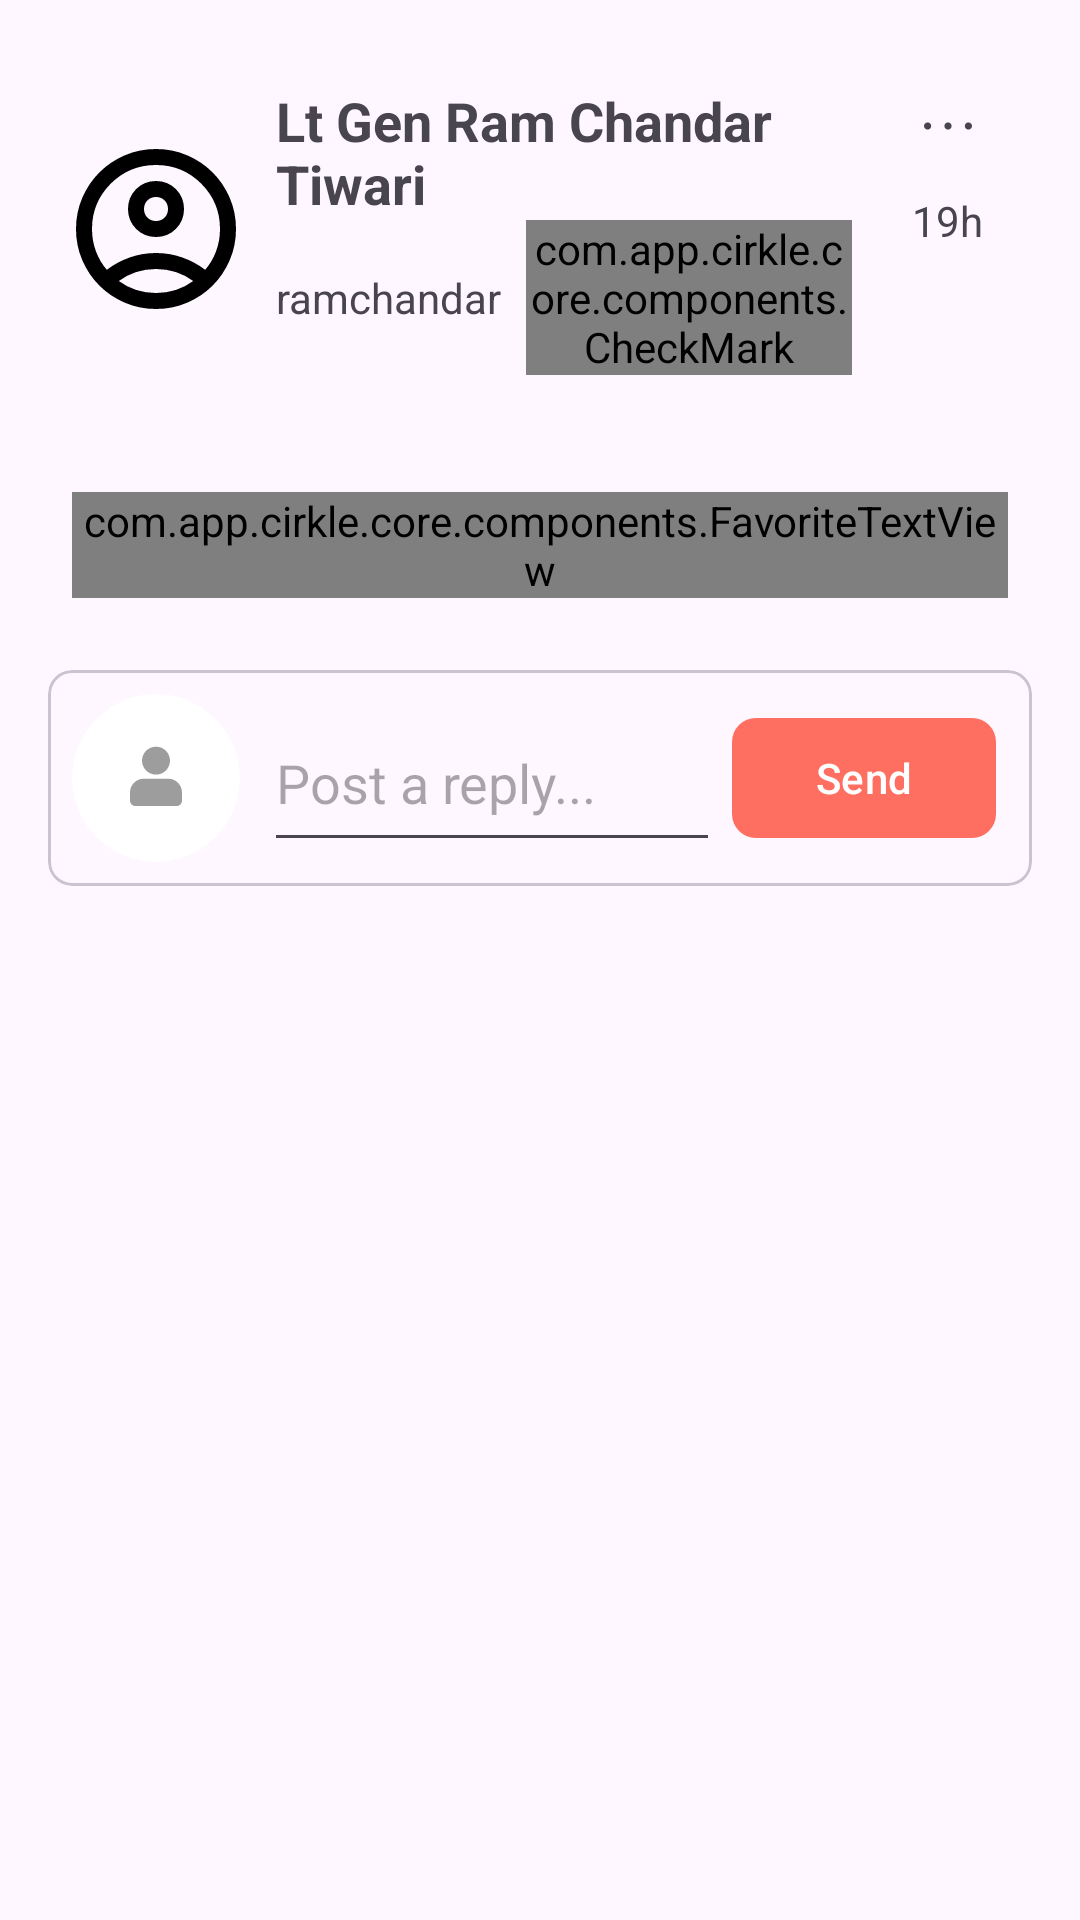

Named icons in this screenshot (1080px×1920px) and their centers, point (x, y):
account circle: point (156, 229)
more vert: point (948, 126)
user: point (156, 776)
